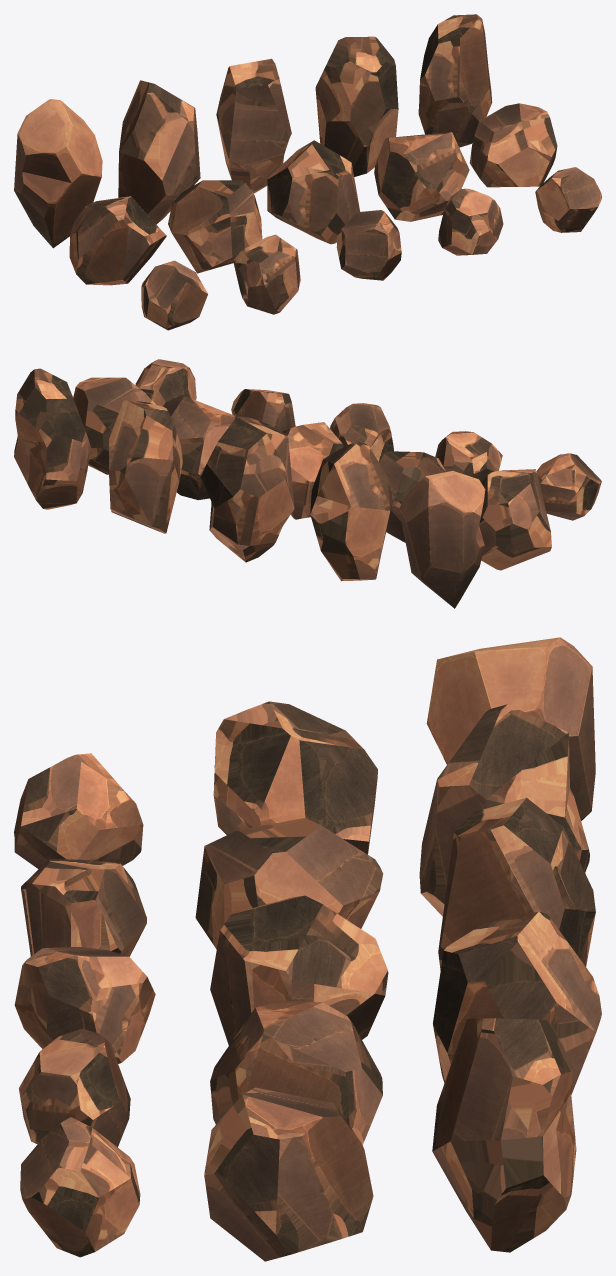
3 views of the same model, one above another, from view 1: azimuth 30°, elevation 25°; view 2: azimuth 150°, elevation 25°; view 3: azimuth 270°, elevation 25° (orthographic). The views are drawn at different scales.
Parts seen in each view (by area): view 1: L_Rock_01_0, L_Rock_04_3, L_Rock_02_1, L_Rock_05_4, L_Rock_03_2, M_Rock_03_7, M_Rock_04_8, M_Rock_02_6, M_Rock_01_5, M_Rock_05_9, S_Rock_02_11, S_Rock_03_12 (+3 smaller); view 2: L_Rock_03_2, L_Rock_02_1, L_Rock_01_0, L_Rock_05_4, L_Rock_04_3, M_Rock_01_5, M_Rock_04_8, M_Rock_05_9, S_Rock_01_10, M_Rock_03_7, M_Rock_02_6, S_Rock_02_11 (+3 smaller); view 3: L_Rock_05_4, M_Rock_05_9, M_Rock_01_5, M_Rock_03_7, L_Rock_04_3, L_Rock_03_2, L_Rock_02_1, L_Rock_01_0, M_Rock_04_8, M_Rock_02_6, S_Rock_05_14, S_Rock_03_12 (+3 smaller).
Part boxes in pixels (box(x1,y1,x2,y2)): L_Rock_01_0: box(14, 99, 102, 248); L_Rock_04_3: box(315, 36, 398, 176); L_Rock_02_1: box(118, 80, 200, 224); L_Rock_05_4: box(418, 14, 492, 147); L_Rock_03_2: box(216, 58, 291, 193); M_Rock_03_7: box(267, 140, 360, 244); M_Rock_04_8: box(374, 132, 469, 221); M_Rock_02_6: box(168, 180, 262, 273); M_Rock_01_5: box(69, 196, 166, 285); M_Rock_05_9: box(469, 103, 557, 187); S_Rock_02_11: box(233, 234, 300, 314); S_Rock_03_12: box(336, 210, 401, 280); L_Rock_03_2: box(201, 416, 294, 562); L_Rock_02_1: box(310, 441, 393, 581); L_Rock_01_0: box(400, 471, 485, 608); L_Rock_05_4: box(14, 368, 90, 509); L_Rock_04_3: box(109, 400, 182, 533); M_Rock_01_5: box(479, 469, 551, 570); M_Rock_04_8: box(171, 396, 234, 500); M_Rock_05_9: box(73, 377, 155, 474); S_Rock_01_10: box(536, 453, 601, 520); M_Rock_03_7: box(282, 422, 343, 519); M_Rock_02_6: box(379, 451, 445, 542); S_Rock_02_11: box(435, 431, 502, 481); L_Rock_05_4: box(432, 1018, 576, 1252); M_Rock_05_9: box(204, 1087, 373, 1261); M_Rock_01_5: box(213, 701, 377, 854); M_Rock_03_7: box(210, 895, 388, 1045); L_Rock_04_3: box(433, 911, 601, 1094); L_Rock_03_2: box(438, 797, 595, 970); L_Rock_02_1: box(419, 704, 589, 916); L_Rock_01_0: box(426, 637, 595, 820); M_Rock_04_8: box(210, 1000, 382, 1144); M_Rock_02_6: box(195, 818, 383, 949); S_Rock_05_14: box(20, 1117, 140, 1257); S_Rock_03_12: box(14, 947, 155, 1063).
Size of the model in its own units: 956 by 273 by 543.
15 materials, 15 textured.
